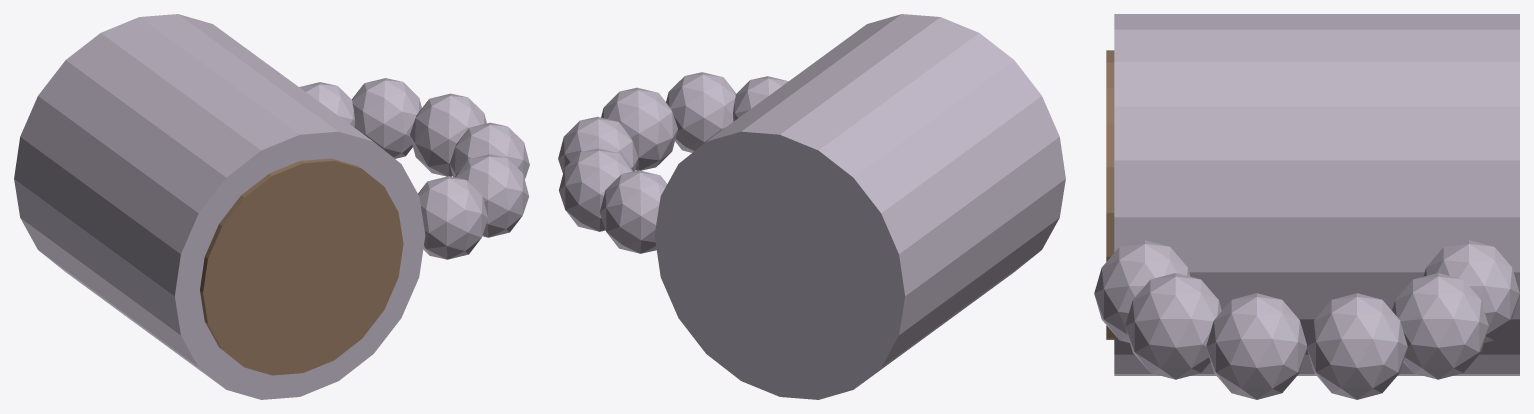
Rendered from coffee_mug.glb.
3 views of the same model, side by side, from view 1: azimuth 30°, elevation 25°; view 2: azimuth 150°, elevation 25°; view 3: azimuth 270°, elevation 25° (orthographic). The views are drawn at different scales.
Visible parts, largest first — view 1: cup, coffee_surface, handle_5, handle_1, handle_2, handle_4, handle_3, handle_0; view 2: cup, handle_0, handle_4, handle_3, handle_1, handle_2, handle_5; view 3: cup, handle_2, handle_3, handle_1, handle_4, handle_0, handle_5, coffee_surface.
Boxes of the visible parts, box(x1,y1,x2,y2) form: cup: box(14, 14, 425, 399); coffee_surface: box(200, 158, 403, 375); handle_5: box(418, 176, 488, 259); handle_1: box(352, 78, 421, 158); handle_2: box(410, 93, 486, 176); handle_4: box(455, 154, 528, 237); handle_3: box(449, 122, 529, 178); handle_0: box(299, 82, 355, 127); cup: box(654, 14, 1065, 399); handle_0: box(599, 170, 667, 253); handle_4: box(666, 72, 736, 152); handle_3: box(601, 87, 677, 170); handle_1: box(559, 148, 632, 231); handle_2: box(558, 116, 638, 173); handle_5: box(733, 76, 788, 121); cup: box(1114, 14, 1519, 375); handle_2: box(1307, 293, 1407, 399); handle_3: box(1206, 293, 1306, 399); handle_1: box(1392, 273, 1488, 379); handle_4: box(1125, 273, 1221, 379); handle_0: box(1423, 240, 1519, 342); handle_5: box(1094, 240, 1190, 342); coffee_surface: box(1106, 50, 1114, 339).
Bounding box in the file's own units: 0.2918 × 0.18 × 0.21.
